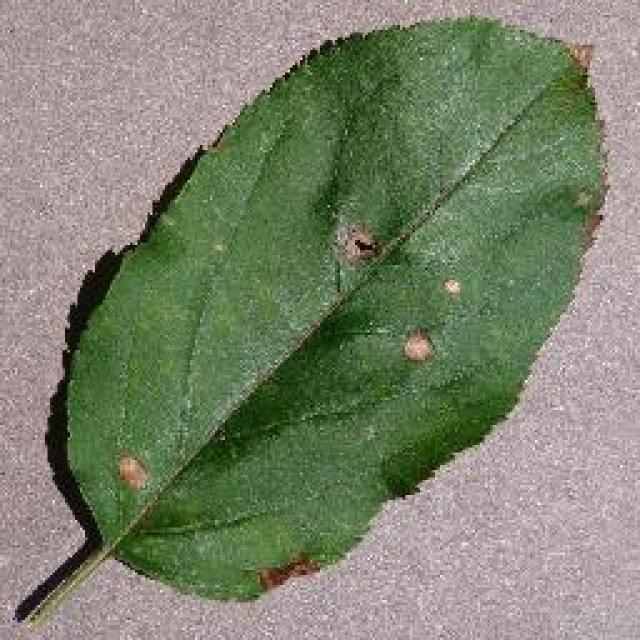apple scab disease: (12, 12, 610, 622)
